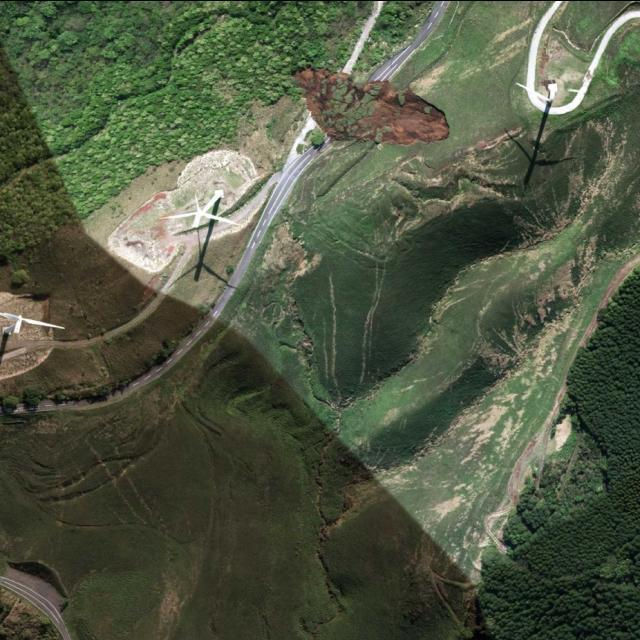landslide: (294, 66, 450, 143)
